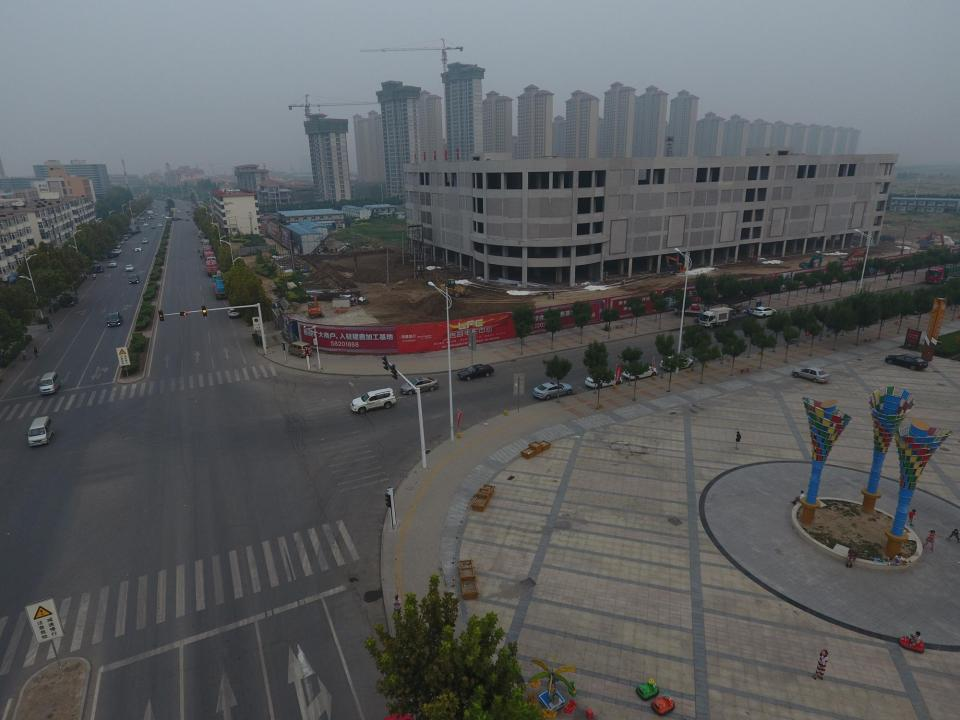car: (350, 387, 396, 414), (532, 381, 573, 400), (885, 353, 928, 371), (400, 376, 438, 395), (791, 365, 831, 383), (456, 363, 494, 381), (659, 355, 694, 372), (584, 373, 622, 388), (622, 365, 657, 381), (752, 306, 778, 318), (106, 311, 122, 327), (63, 295, 79, 308), (227, 306, 242, 318), (128, 273, 139, 284), (106, 252, 120, 258), (95, 266, 104, 274), (125, 264, 134, 272), (111, 248, 122, 254), (128, 227, 141, 232), (108, 260, 117, 267), (113, 243, 122, 249), (134, 246, 142, 252), (126, 231, 138, 235), (130, 230, 142, 234), (118, 239, 125, 244), (142, 238, 148, 243), (200, 238, 206, 243), (125, 233, 131, 238), (157, 222, 163, 226), (175, 217, 183, 220), (164, 215, 170, 219), (150, 224, 155, 228), (394, 264, 397, 270), (143, 223, 149, 226), (185, 217, 189, 221), (134, 226, 140, 228)
truck: (699, 306, 734, 329), (210, 274, 230, 300), (673, 302, 704, 318), (205, 256, 219, 276), (202, 241, 215, 256), (202, 248, 216, 261), (196, 230, 206, 238), (147, 210, 154, 219)
van: (26, 416, 55, 447), (38, 372, 62, 396), (288, 341, 314, 358), (217, 270, 225, 279), (203, 239, 210, 247), (123, 234, 128, 240), (170, 217, 177, 221)
